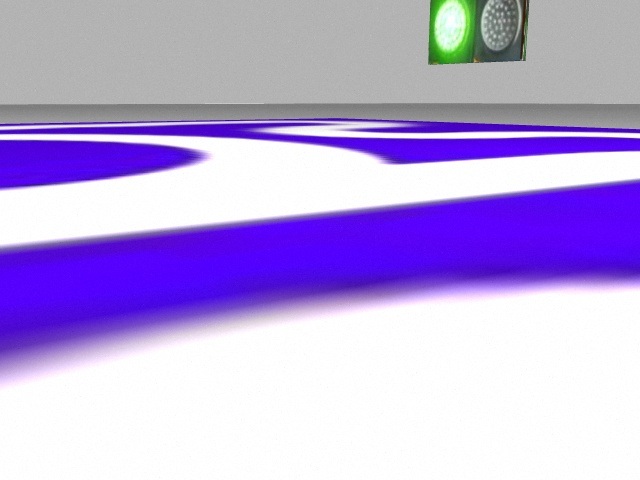green: (429, 3, 472, 64)
